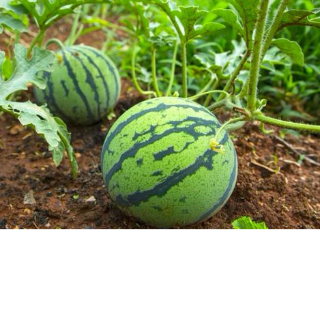dua_hau: (96, 95, 239, 227), (39, 40, 120, 124)
